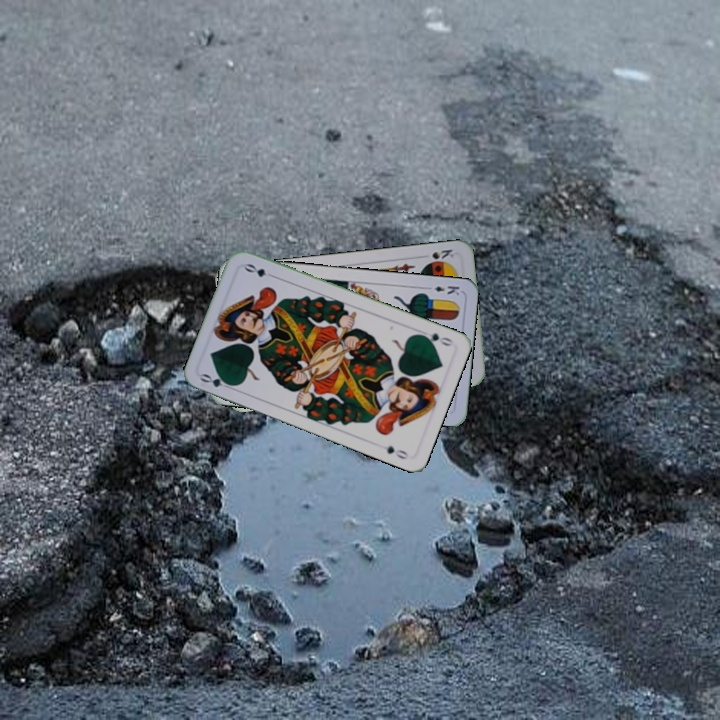EK: (422, 282, 462, 298)
GO: (196, 369, 237, 392), (415, 328, 455, 349)
SK: (417, 245, 457, 262)
